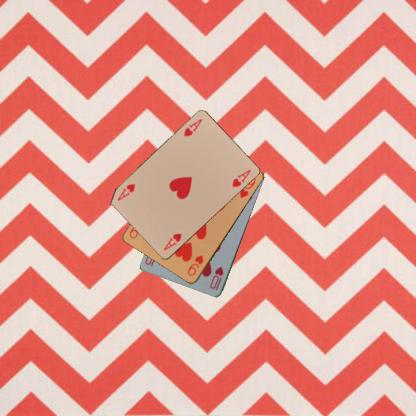10h: (207, 264, 225, 292)
9h: (185, 252, 204, 277)
Ah: (161, 230, 183, 252), (182, 117, 204, 138)
